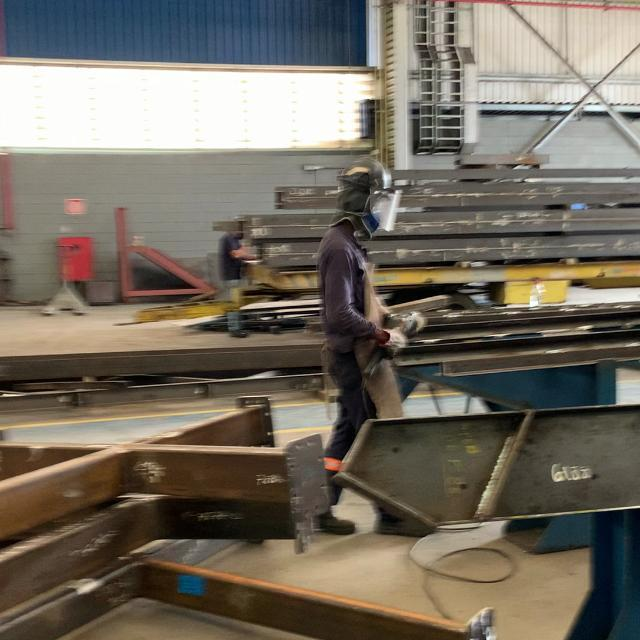eye-glass: (363, 184, 401, 235)
face-shield: (387, 329, 410, 349), (401, 313, 426, 323)
glove: (333, 157, 397, 188)
mask: (315, 157, 430, 412)
safety-shoe: (373, 511, 439, 538), (317, 511, 360, 536)
